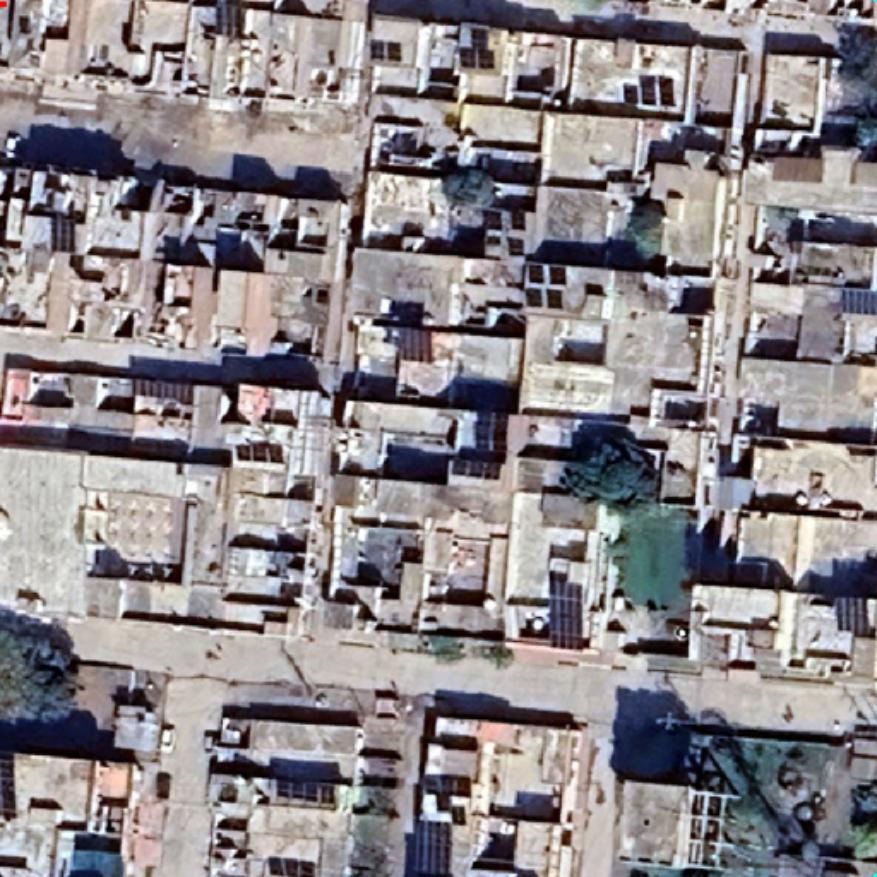Solarpanel: (448, 403, 514, 484), (543, 568, 590, 654), (407, 811, 457, 877), (270, 770, 342, 810), (832, 592, 876, 640), (127, 374, 193, 406), (456, 22, 498, 72), (234, 436, 288, 467), (393, 325, 436, 360), (366, 34, 406, 68), (264, 852, 320, 876), (421, 772, 469, 799), (49, 210, 76, 250), (504, 232, 528, 260)
